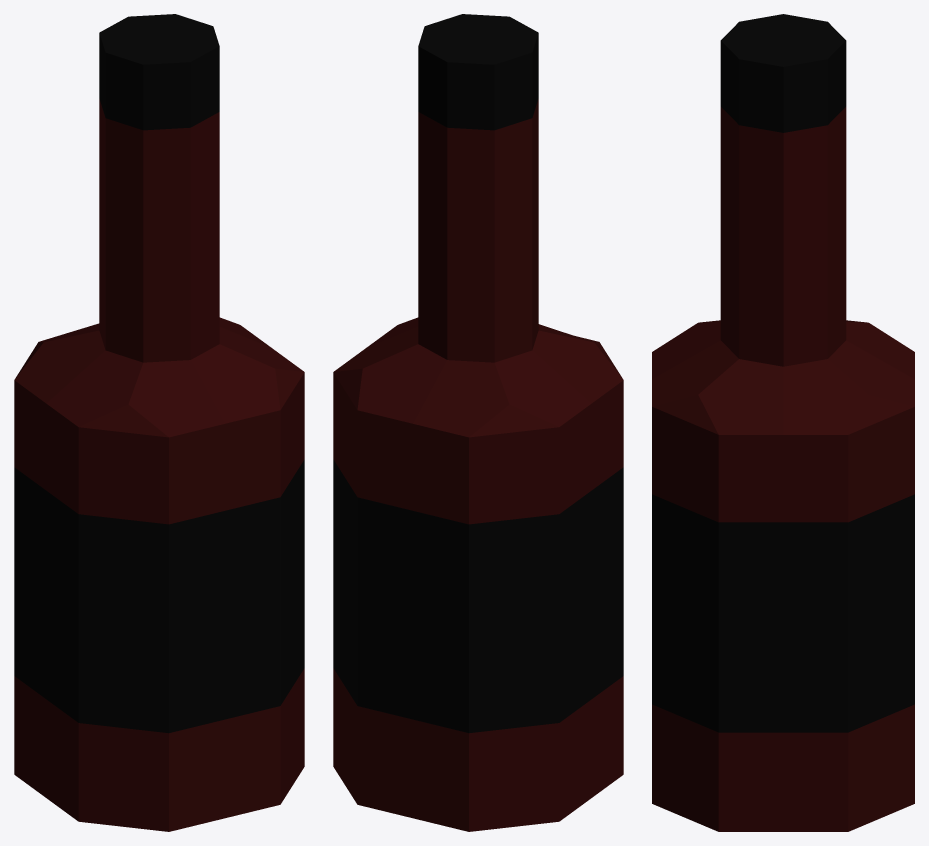
File: джек бухло.fbx
The picture shows the model from 3 angles, left to right: view 1: azimuth 30°, elevation 25°; view 2: azimuth 150°, elevation 25°; view 3: azimuth 270°, elevation 25°; orthographic projection.
Visible parts, largest first — view 1: Куб; view 2: Куб; view 3: Куб.
Boxes of the visible parts, <box> form: Куб: <box>14,14,304,831</box>; Куб: <box>333,14,623,831</box>; Куб: <box>652,14,914,831</box>.
Size of the model in its own units: 20.47 by 63.27 by 20.47.
